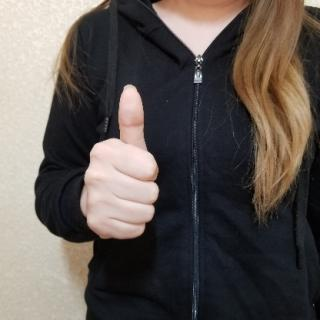ALIF: (80, 80, 162, 244)
